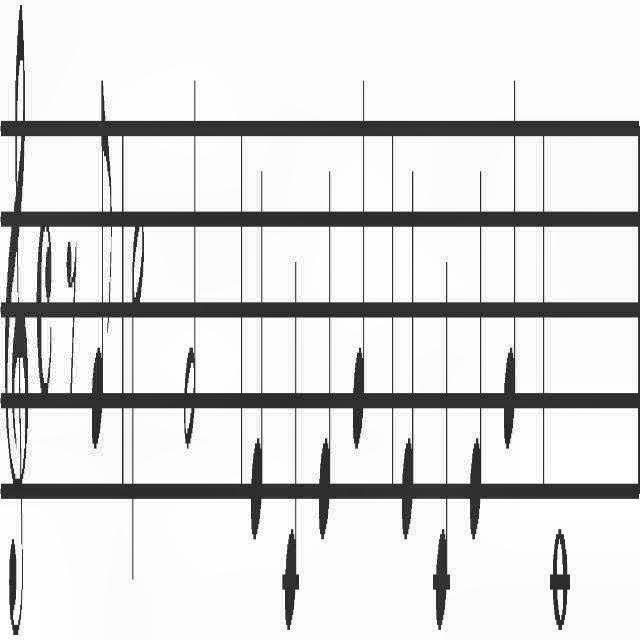Bass-clef: (1, 10, 29, 640)
Eighth-note: (91, 58, 112, 462)
Eighth-rest: (60, 171, 80, 441)
Full-note: (551, 478, 573, 640)
Half-note: (181, 0, 203, 492), (129, 190, 147, 636)
Quarter-note: (344, 47, 370, 457), (496, 50, 520, 488), (250, 128, 270, 632), (398, 120, 418, 608), (280, 245, 304, 628), (432, 186, 452, 640), (466, 104, 486, 552), (315, 136, 337, 542)
